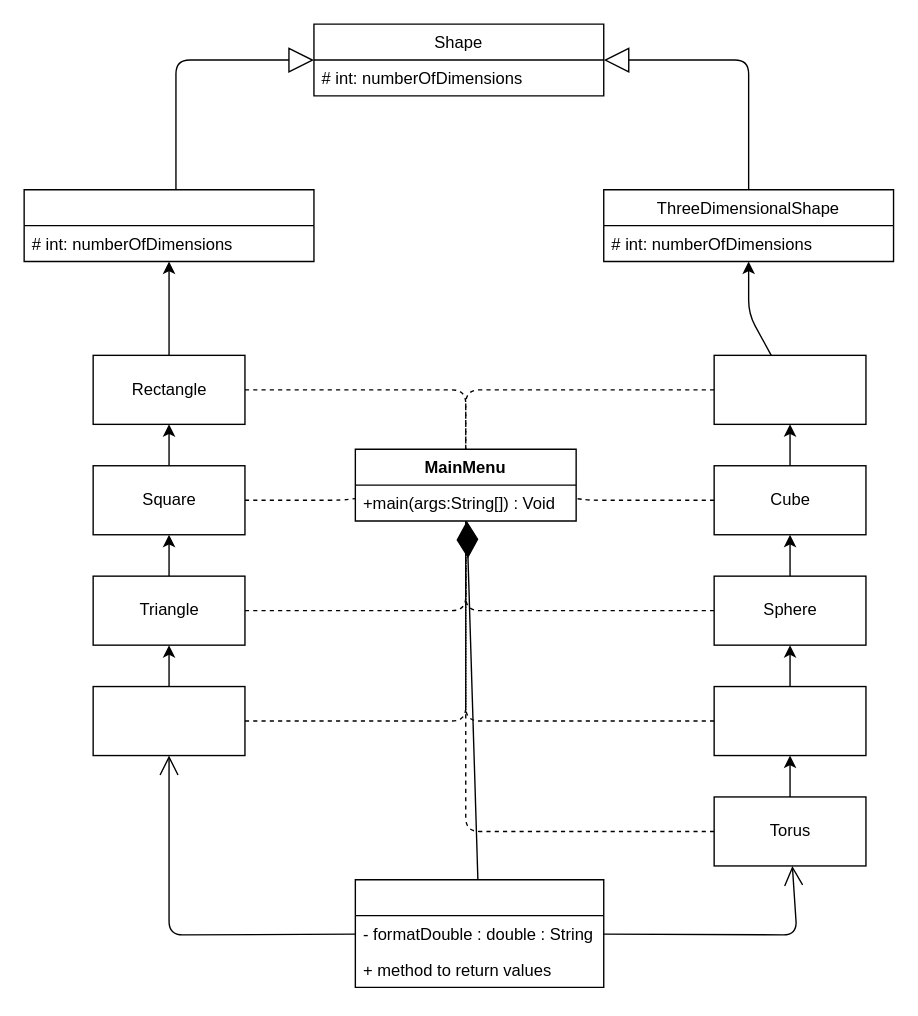
The diagram is 918 pixels wide and 1016 high, and some of its shapes have lost their labels. Each missing label, with the box of its shape:
Circle: (92, 685, 245, 756)
Cone: (713, 354, 866, 424)
Cylinder: (713, 685, 866, 756)
DataValues: (354, 878, 604, 987)
TwoDimensionalShape: (23, 188, 314, 262)
